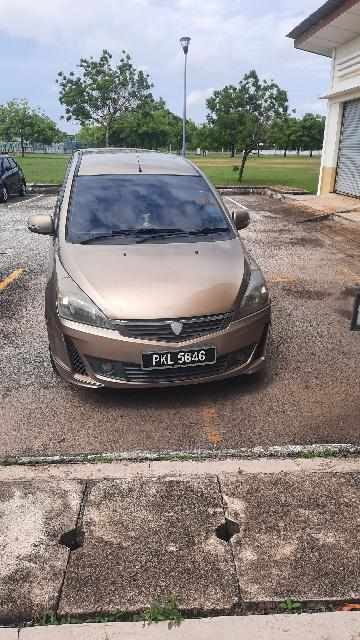License_Plate: (142, 343, 220, 371)
car: (25, 139, 277, 399)
